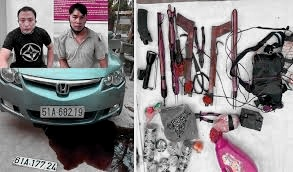Bien-so: (10, 144, 55, 164), (39, 94, 85, 112)
